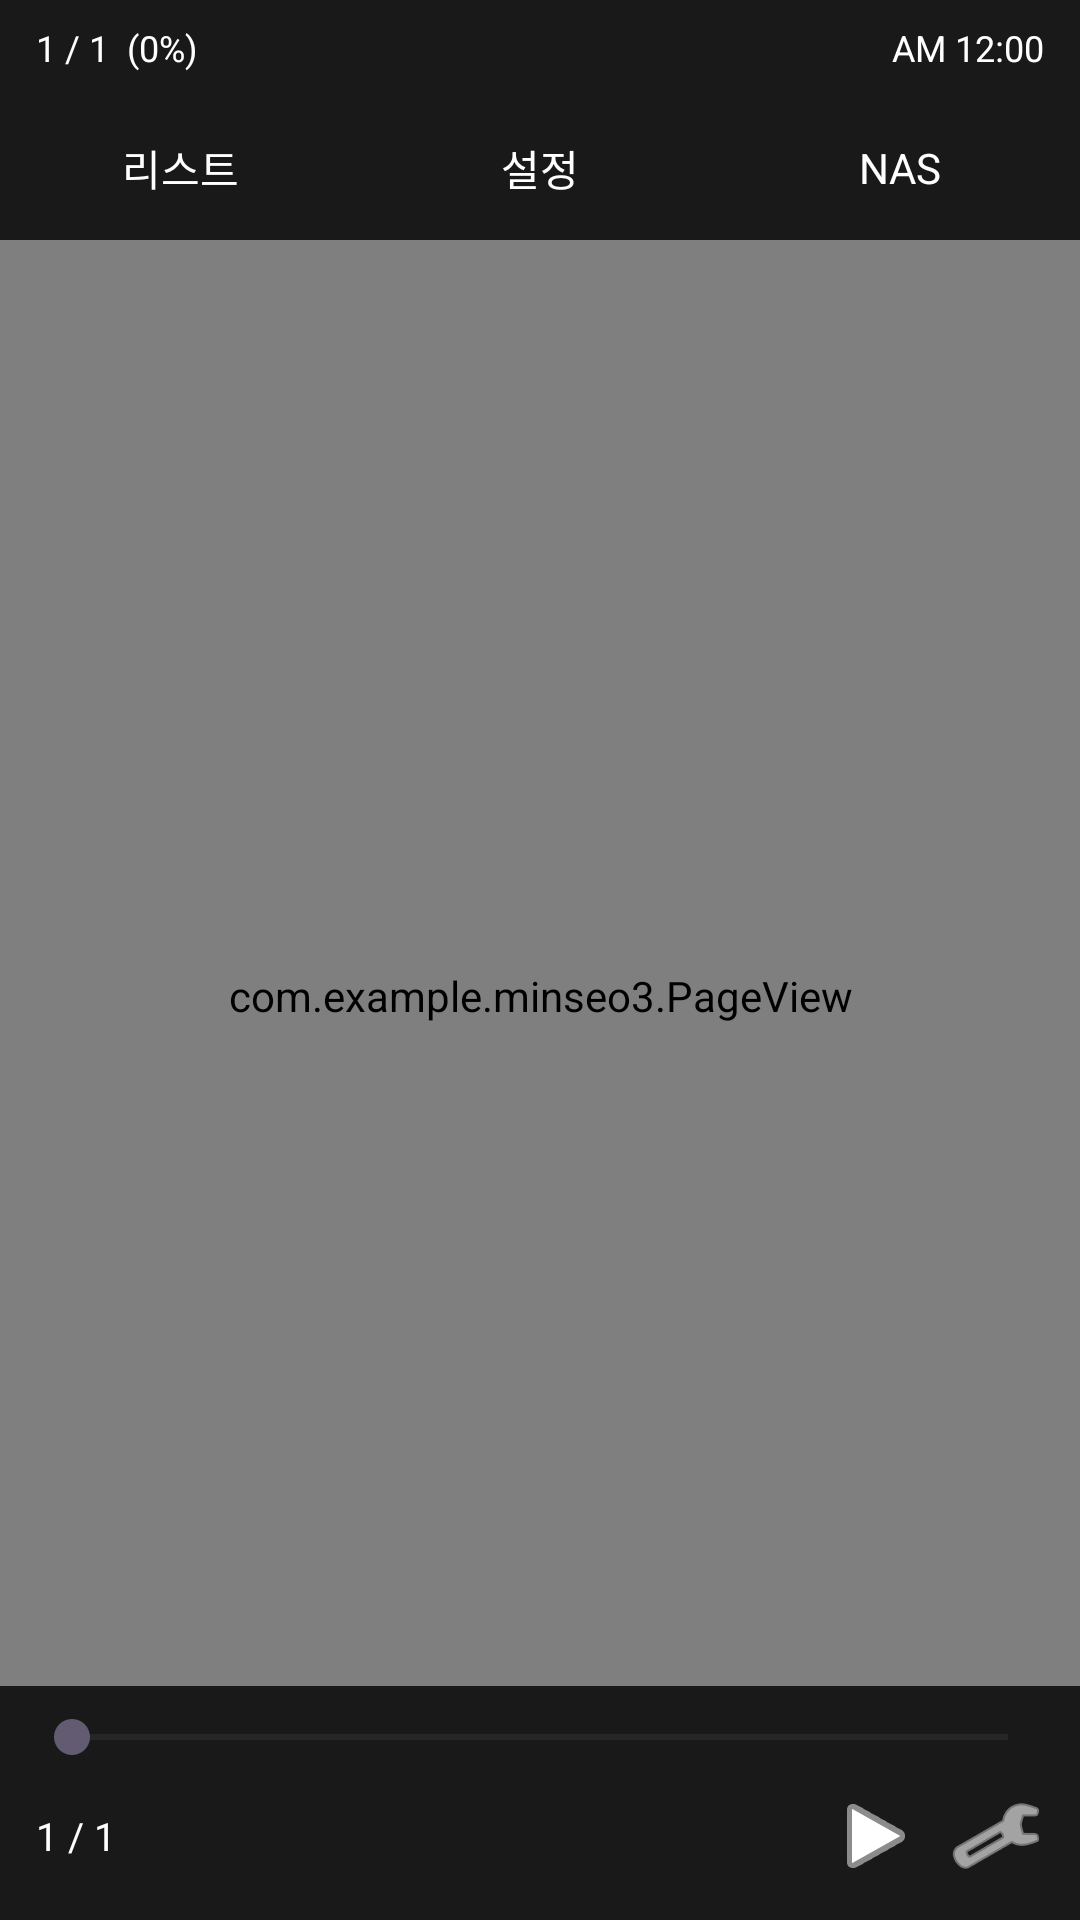

Icons on this 1080×1920 Android screen, each with the point to tap as (x=x, y=y):
TTS: (x=876, y=1836)
설정: (x=996, y=1836)
